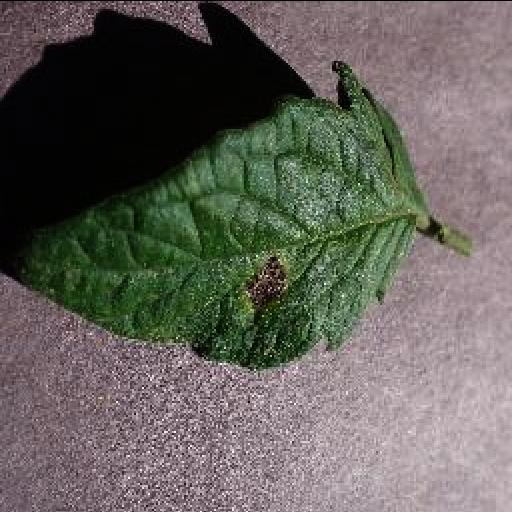disease_tomato: (12, 56, 430, 370)
